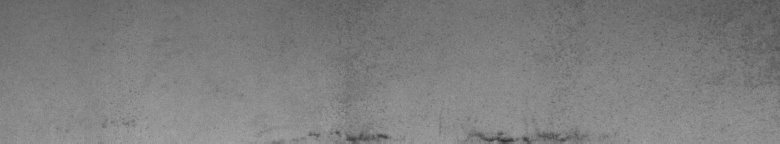ib: (469, 4, 584, 136)
